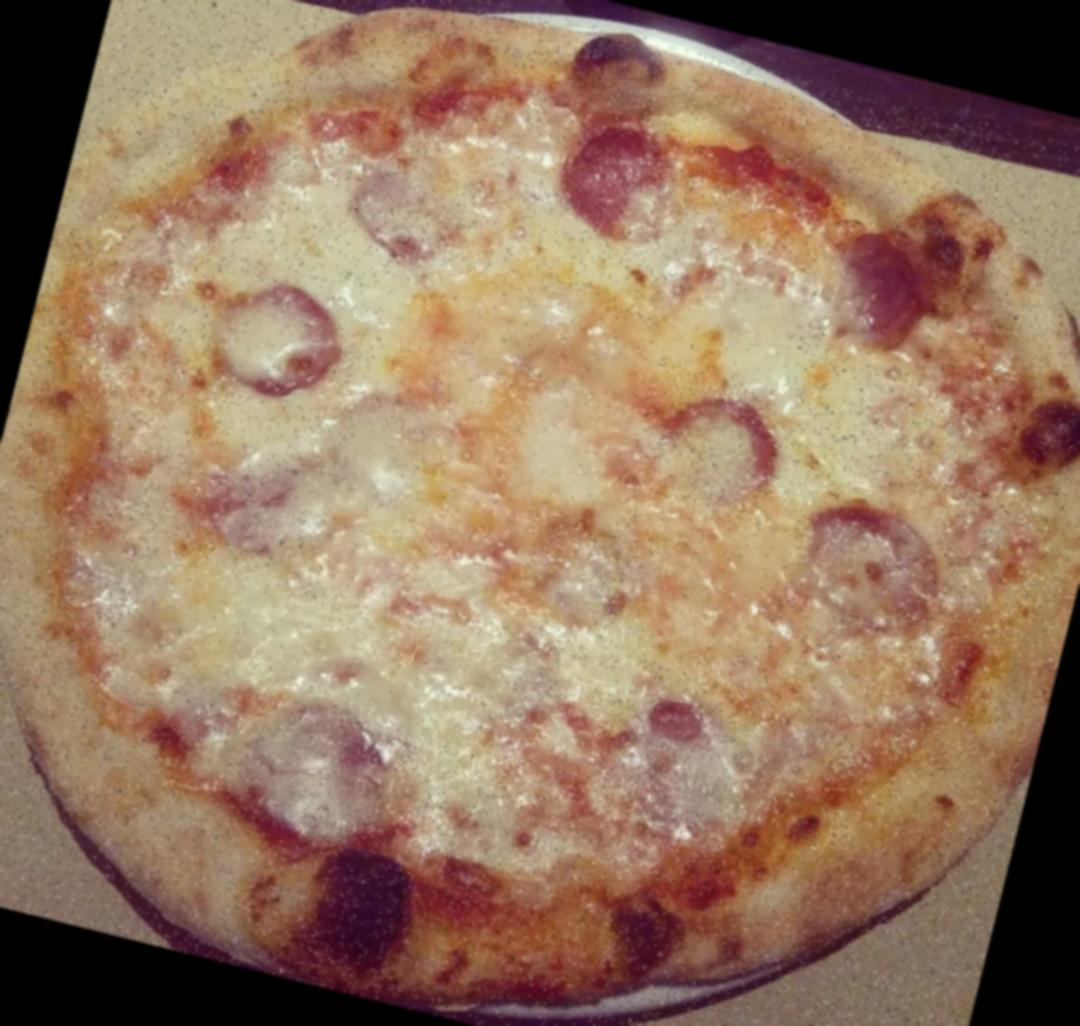Cheese: (322, 265, 664, 646), (125, 556, 615, 775), (142, 398, 355, 563), (610, 501, 793, 688), (797, 363, 974, 500), (654, 261, 802, 386)
Ham: (798, 498, 948, 634), (208, 282, 349, 413), (544, 112, 681, 245), (824, 228, 938, 368), (657, 388, 780, 496)
Pizza: (0, 0, 1080, 1026)
